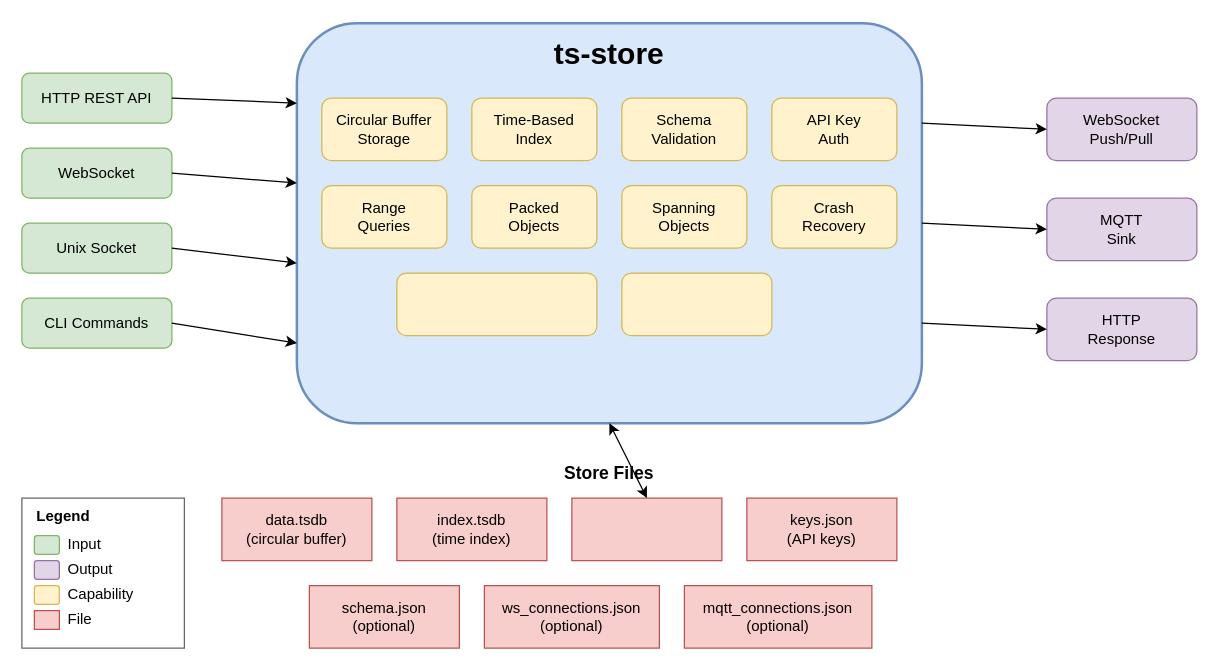
This 1219x670 diagram has some shape labels left out. Here are the shapes that lost their labels. From the top down, the centre of each, then its label:
At point 496,304: "Data Types (binary/text/json/schema)".
At point 696,304: "Multi-Store Management".
At point 646,529: "meta.tsdb (metadata)".
